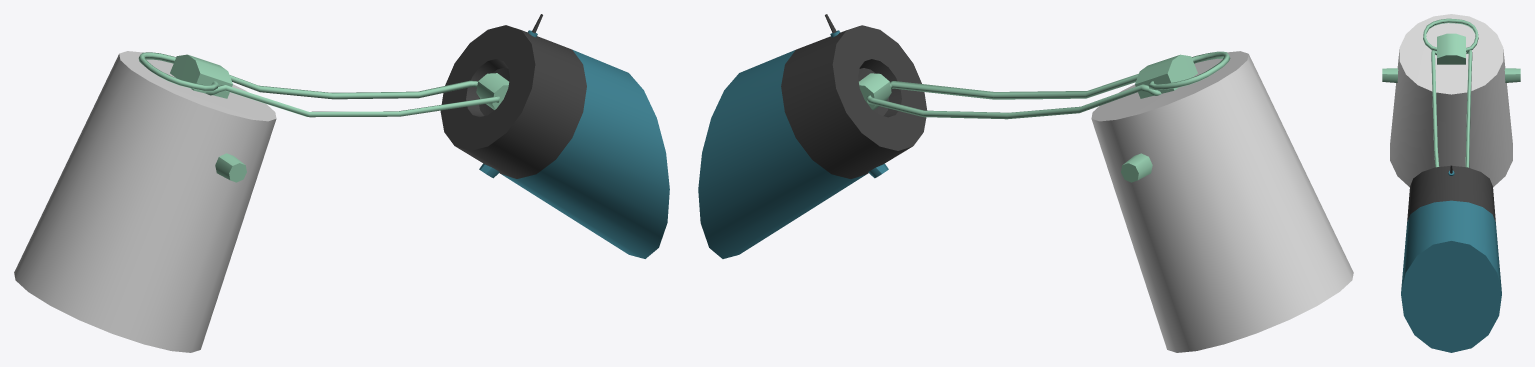
The model's file is IsfallMultipurposeLighting.FBX.
3 renders of one model, left to right at view 1: azimuth 30°, elevation 25°; view 2: azimuth 150°, elevation 25°; view 3: azimuth 270°, elevation 25°, orthographic. The views are drawn at different scales.
Visible parts, largest first — view 1: IsfallMultipurposeLighting; view 2: IsfallMultipurposeLighting; view 3: IsfallMultipurposeLighting.
Boxes of the visible parts, x1=… form: IsfallMultipurposeLighting: x1=14, y1=14, x2=669, y2=352; IsfallMultipurposeLighting: x1=698, y1=14, x2=1353, y2=352; IsfallMultipurposeLighting: x1=1382, y1=14, x2=1520, y2=352.
Bounding box in the file's own units: 719 × 351 × 232.
